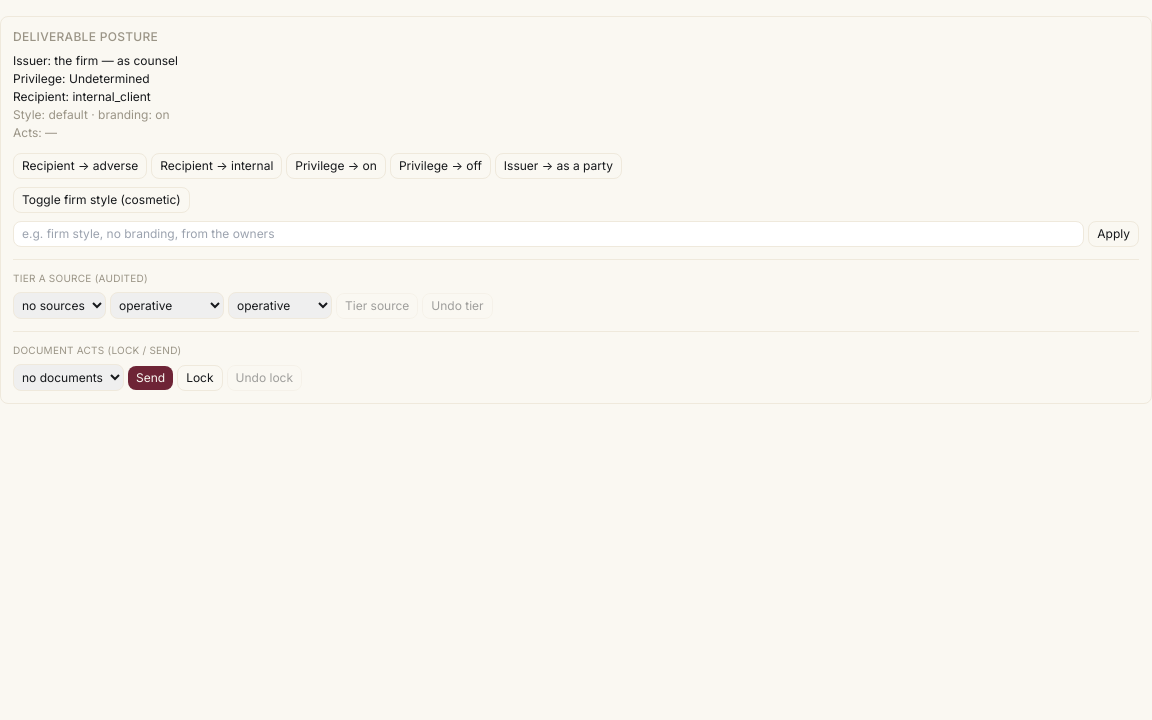
it: ChatDeliverable — the issuer scenario, END-TO-END on the live surface › "firm style, no branding, from the owners": cosmetics apply silently; the issuer change surfaces a recorded full-triple confirm
Type "firm style, no branding, from the owners" into the field with test id "formatting-input" at (549, 234), box [13,221,1084,247]
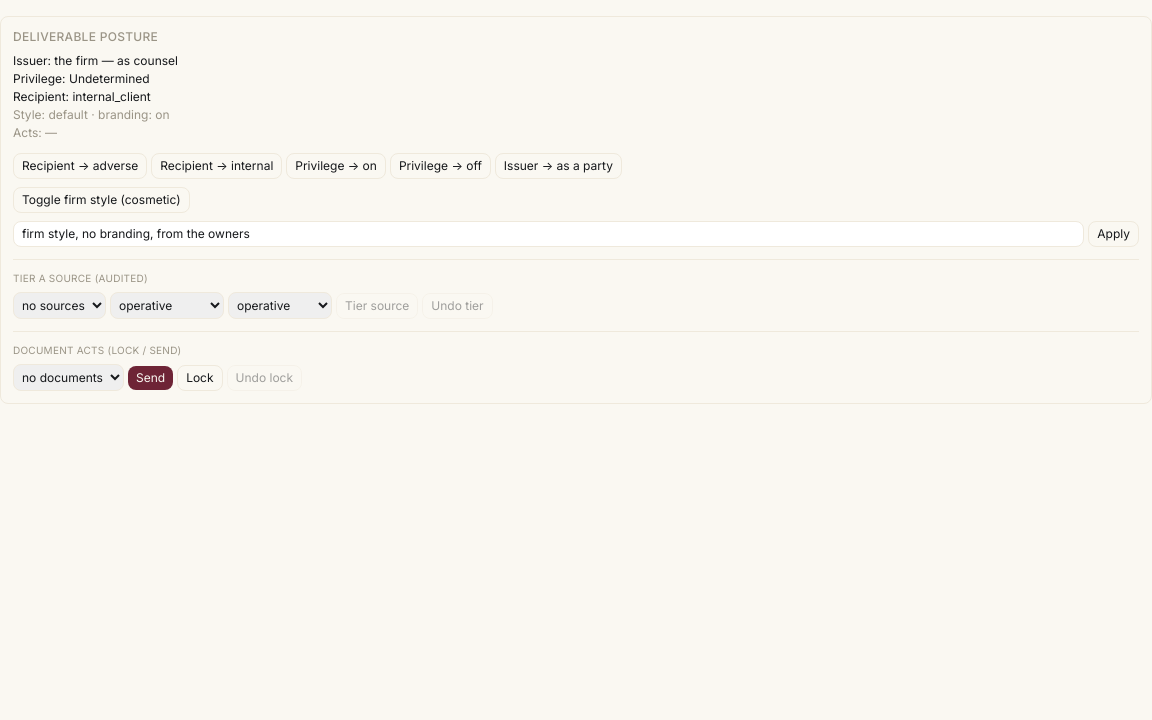
Click the button with test id "formatting-apply" at (1114, 234), box [1088,221,1139,247]
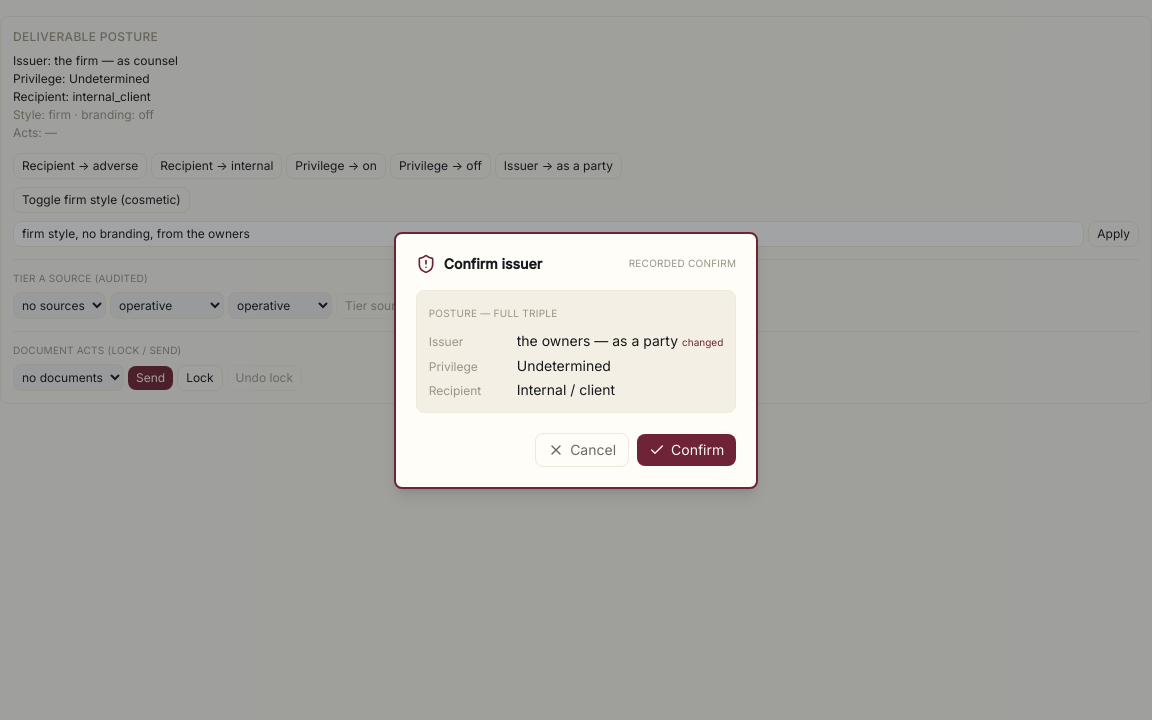
expect the text with test id "dt-cosmetic" shows "firm": met, box [48,107,71,122]
expect the text with test id "dt-cosmetic" shows "branding: off": met, box [13,107,154,122]
expect the element with test id "confirm-overlay" is shown: met
Click the button with test id "confirm-accept" at (687, 450), box [637,434,736,466]
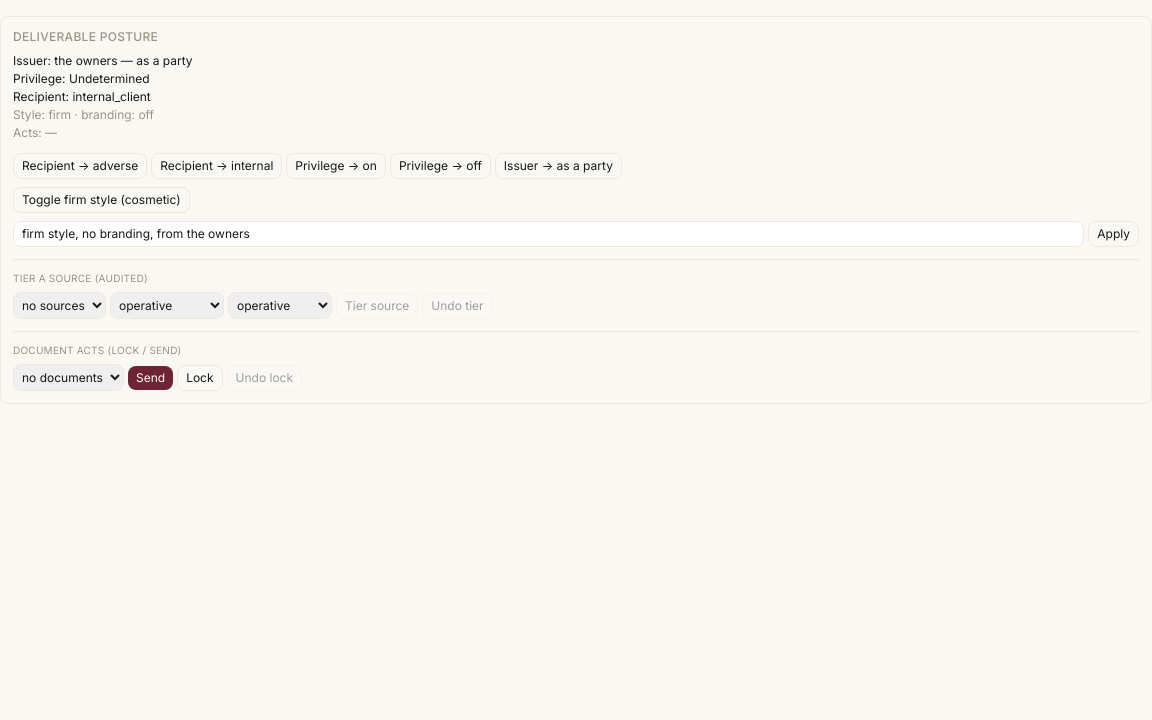
expect the text with test id "dt-issuer" shows "the owners": met, box [54,53,117,68]
